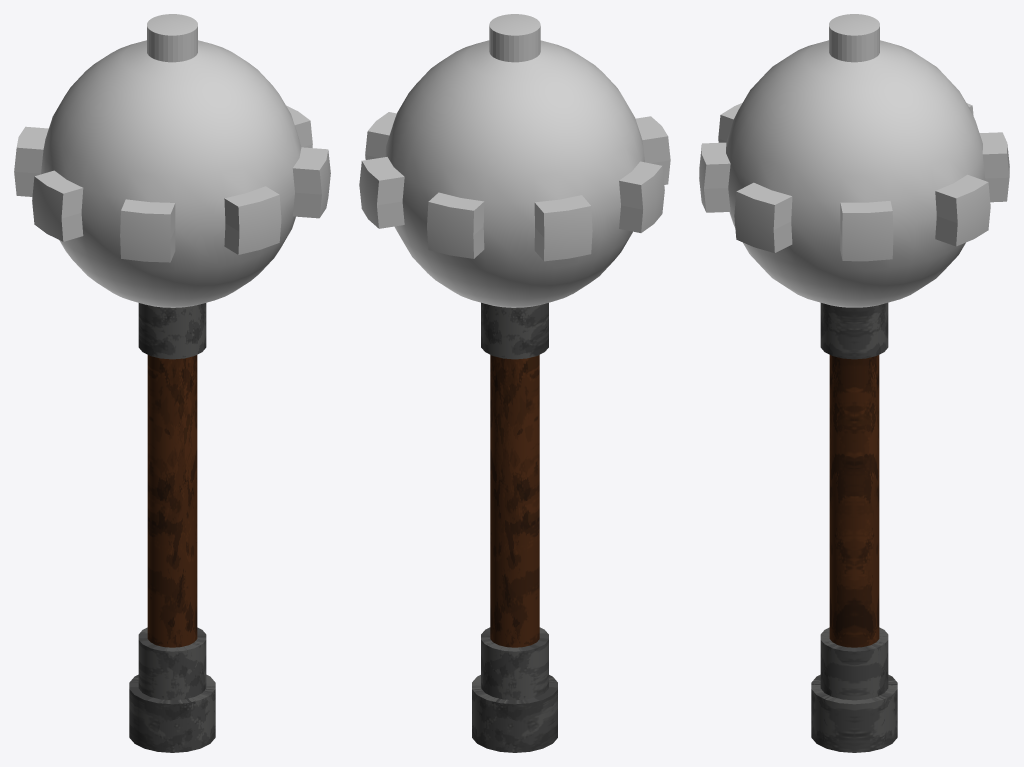
File: 2티어 척후병 철퇴.fbx
The picture shows the model from 3 angles, left to right: view 1: azimuth 30°, elevation 25°; view 2: azimuth 150°, elevation 25°; view 3: azimuth 270°, elevation 25°; orthographic projection.
Parts seen in each view (by area): view 1: Sphere002, 12; view 2: Sphere002, 12; view 3: Sphere002, 12.
Boxes of the visible parts, x1=… form: Sphere002: x1=14, y1=14, x2=330, y2=307; 12: x1=129, y1=303, x2=215, y2=752; Sphere002: x1=359, y1=14, x2=670, y2=307; 12: x1=472, y1=302, x2=557, y2=752; Sphere002: x1=699, y1=14, x2=1009, y2=307; 12: x1=811, y1=302, x2=897, y2=752.
Bounding box in the file's own units: 19.57 × 49.5 × 19.57.
